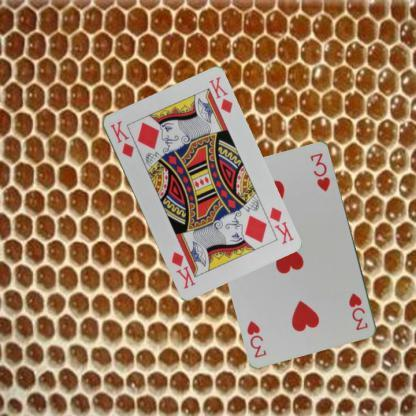3h: (346, 290, 370, 332)
Kd: (266, 204, 296, 246), (108, 118, 136, 159)
